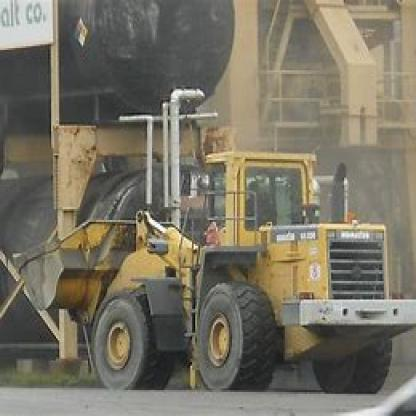bull_dozer/loader/grader: (9, 142, 414, 405)
